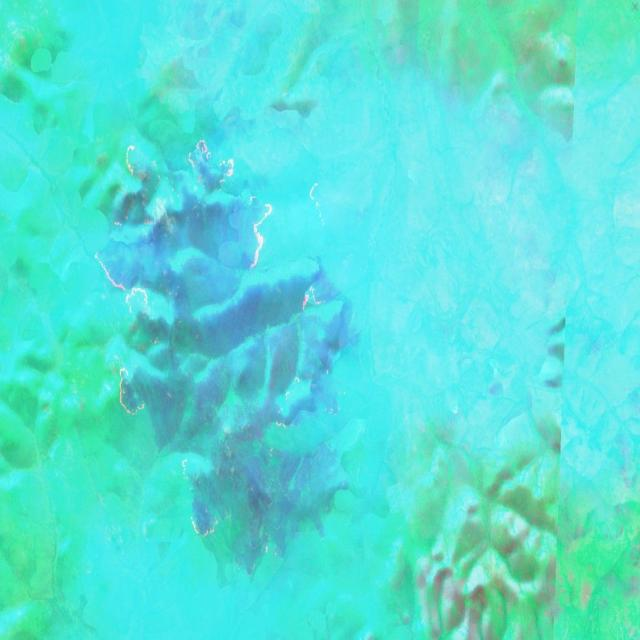fire: (87, 138, 275, 319), (179, 458, 233, 558), (303, 182, 329, 316), (112, 357, 152, 423)
